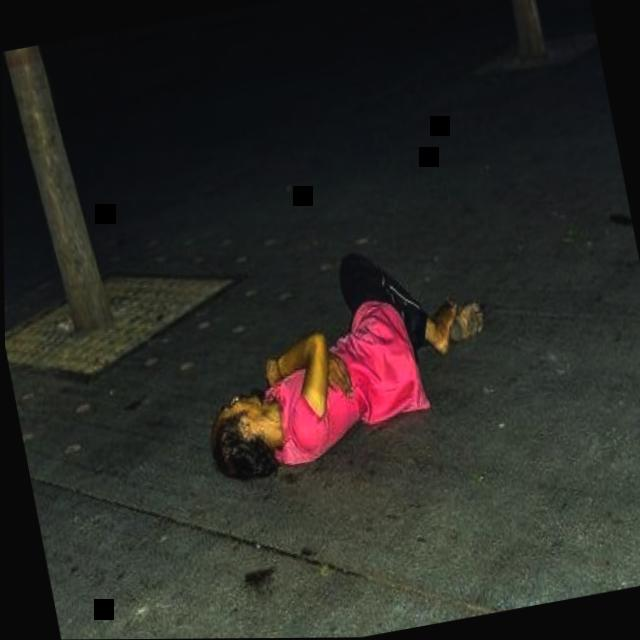Fall-Detected: (160, 205, 510, 496)
